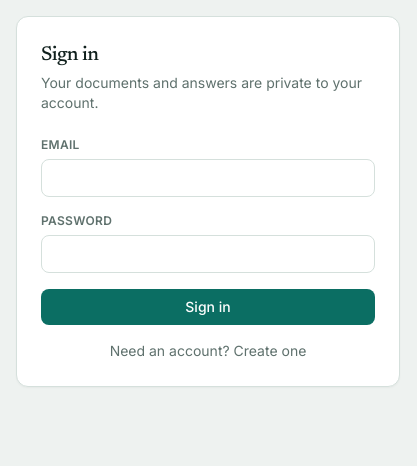
Scenario: AuthView › shows the rejection message and keeps the form up
This screenshot has width=417, height=466.
Expected: the heading "Sign in" is shown, [41,45,98,65]
Type "ada@example.com" into the field labelled "Email" at (208, 178), box [41,159,375,197]
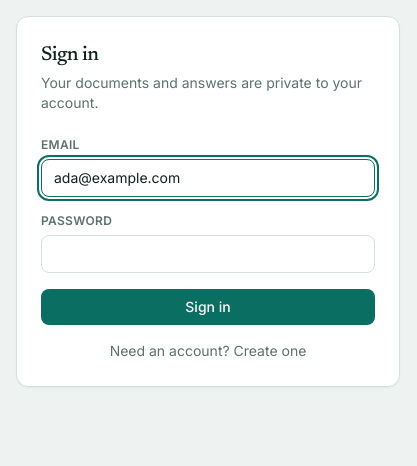
Type "wrong-horse" into the password field labelled "Password" at (208, 254), box [41,235,375,273]
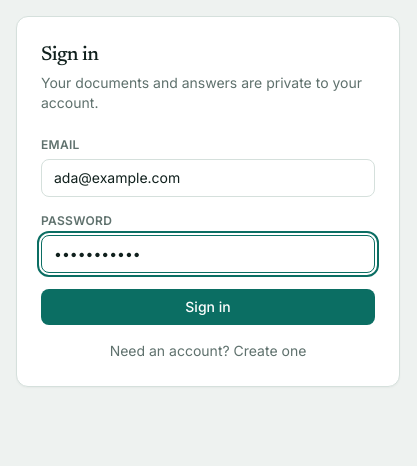
Click the button "Sign in" at (208, 307), box [41,289,375,325]
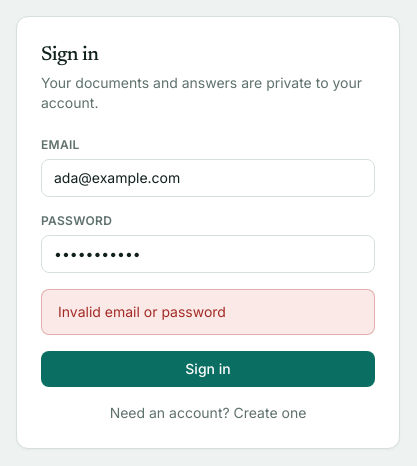
Expected: the message reads "Invalid email or password", [58,303,226,320]
